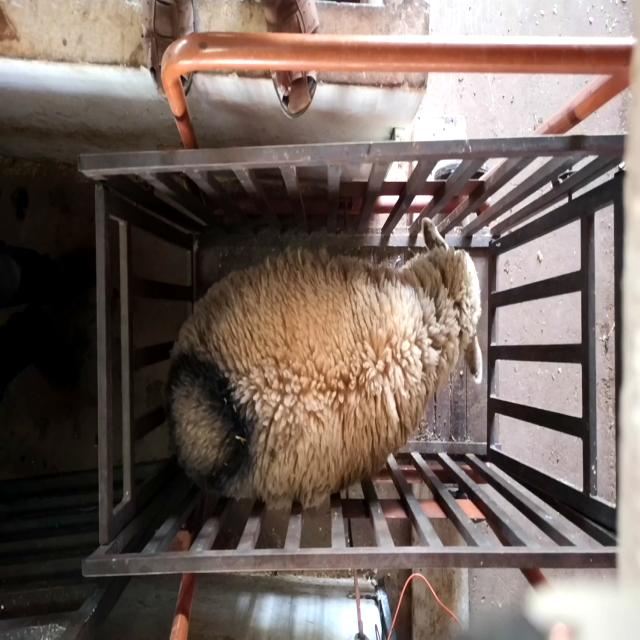sheep: (162, 218, 482, 510)
